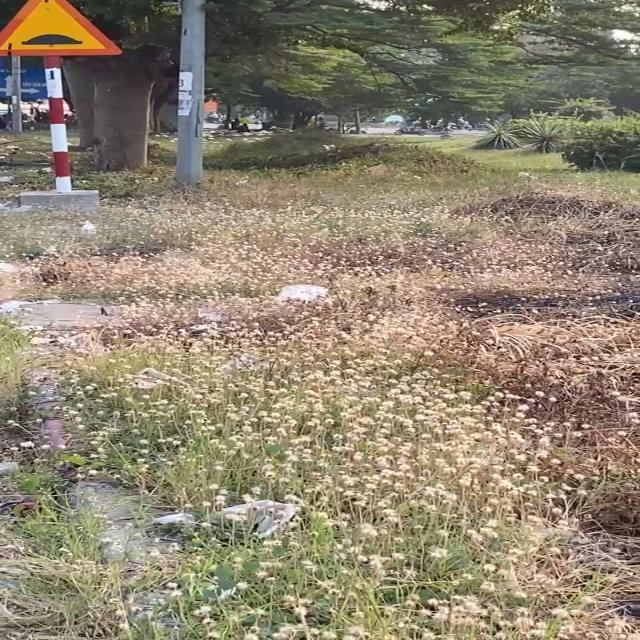221-duong-go-ghe: (3, 0, 127, 55)
